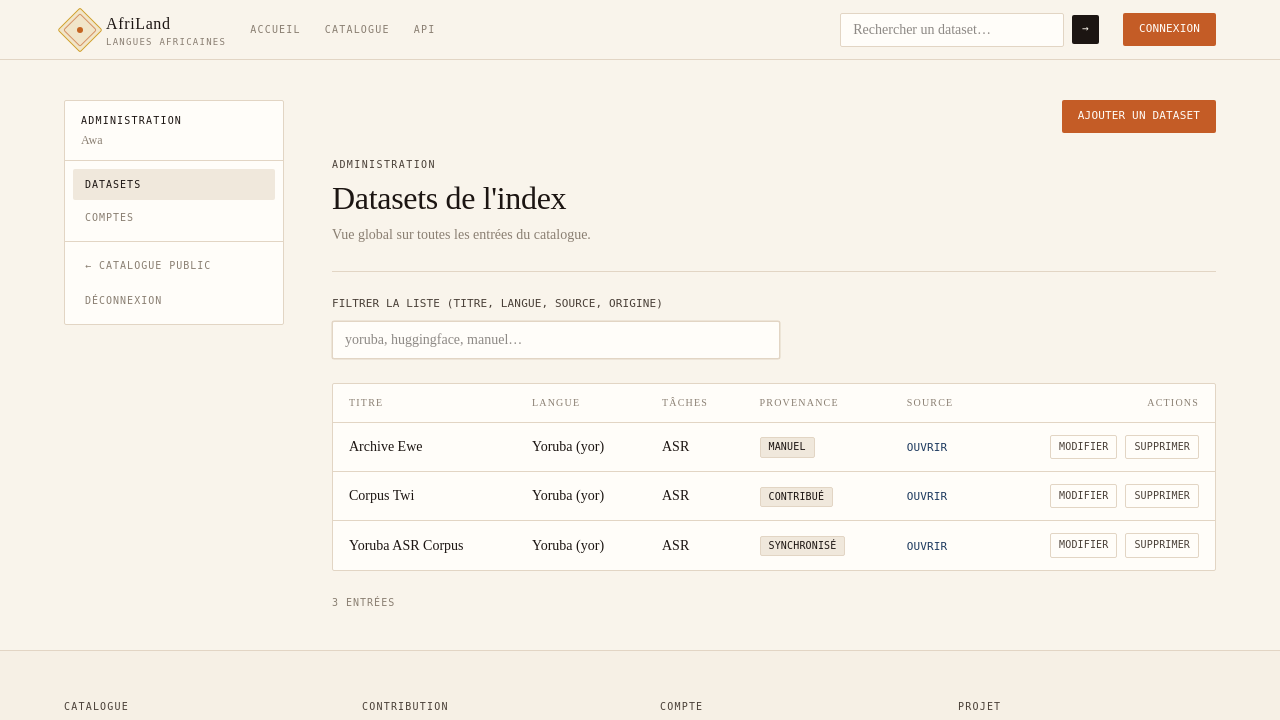
Test: DatasetAdminPanel (Story 4.3) › filtre la liste sur le titre, la langue, la source ou l'origine
In the field labelled "Filtrer la liste (titre, langue, source, origine)": (556, 340) [332, 320, 780, 358], type "contribué"
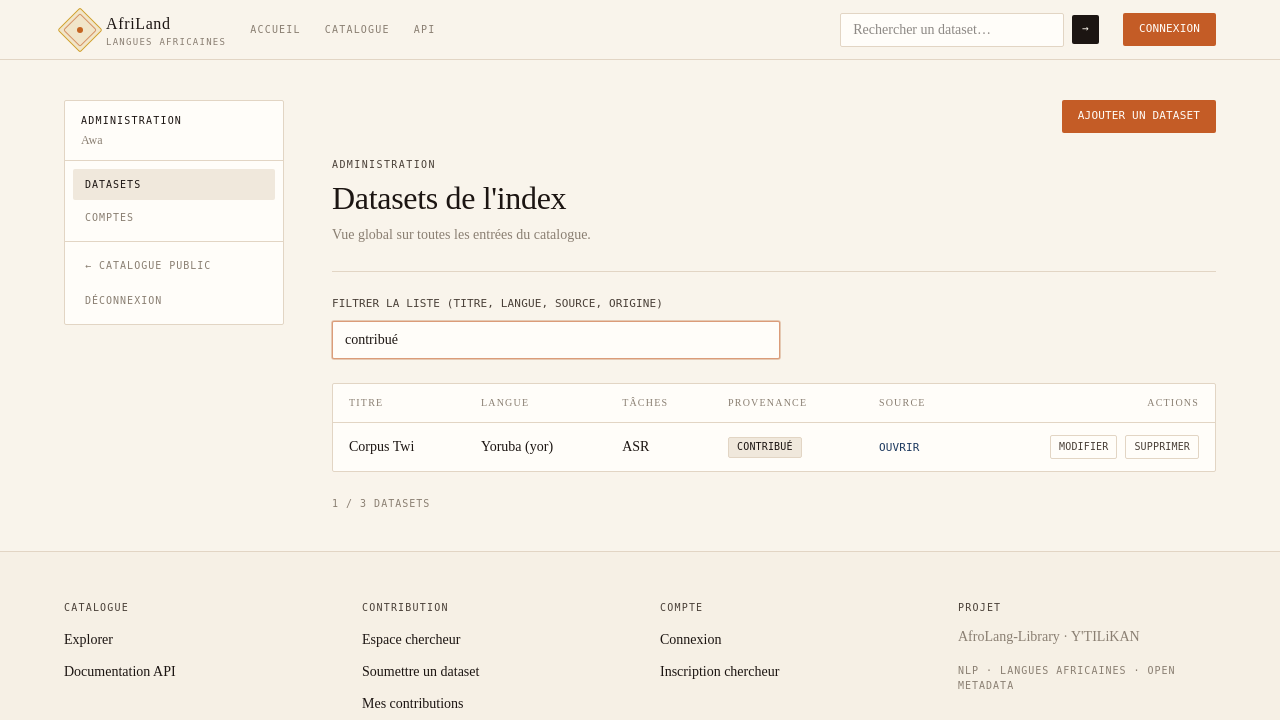
Expected: the text "Corpus Twi" is shown, [333, 422, 465, 471]
Now the text "Archive Ewe" is gone
Now the text "1 / 3 datasets" is shown, box [332, 498, 430, 509]
